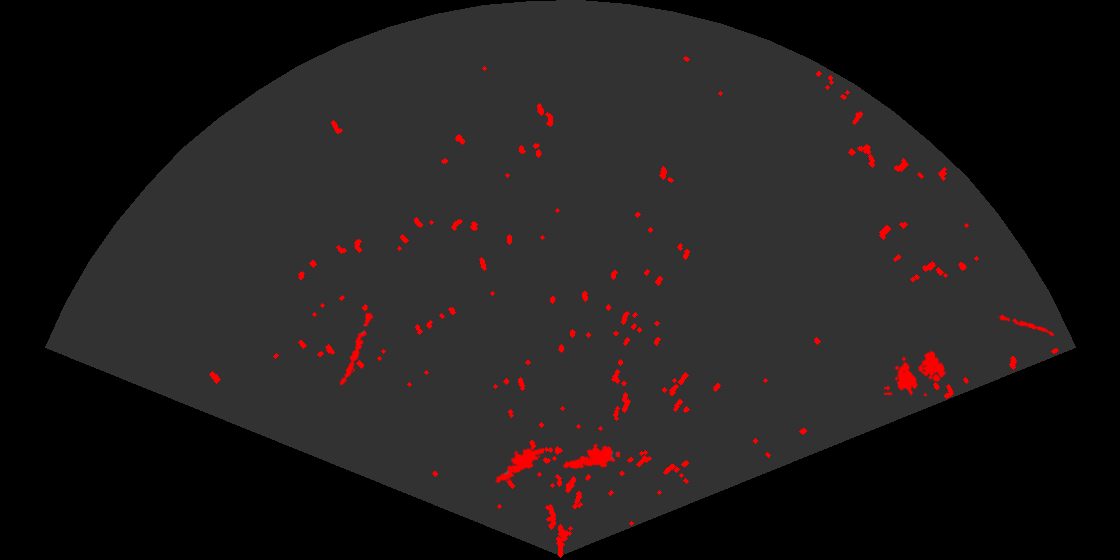cage: (884, 349, 948, 396)
chain: (338, 309, 375, 387), (997, 313, 1059, 338)
frogman: (492, 446, 544, 485), (561, 442, 620, 470)
